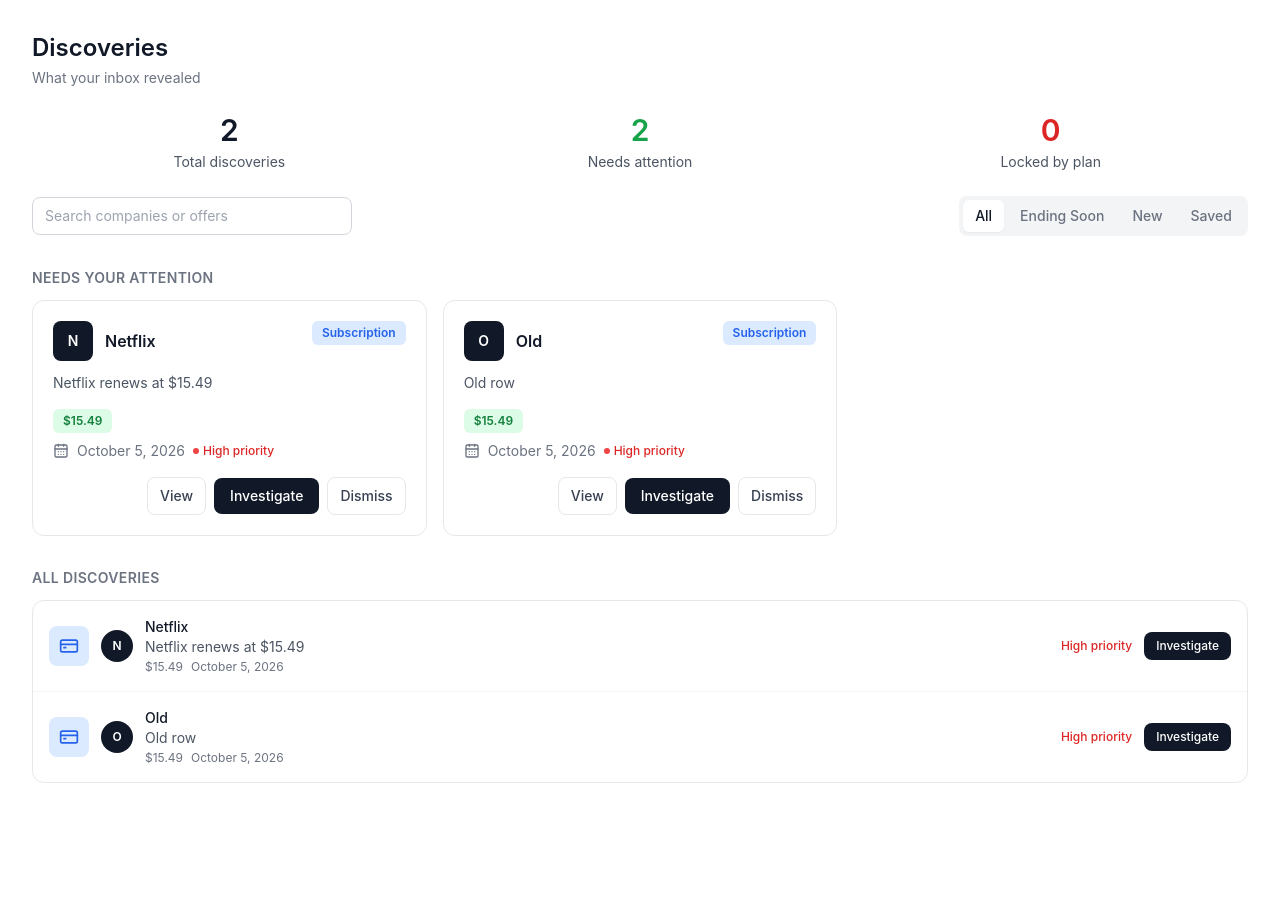
Scenario: DiscoveriesPage › filters rows with the New tab by createdAt recency
expect the element with test id "discoveries-list" is shown: met, box [32,600,1248,783]
Click the tab with test id "filter-tab-new" at (1148, 216), box [1120,200,1175,232]
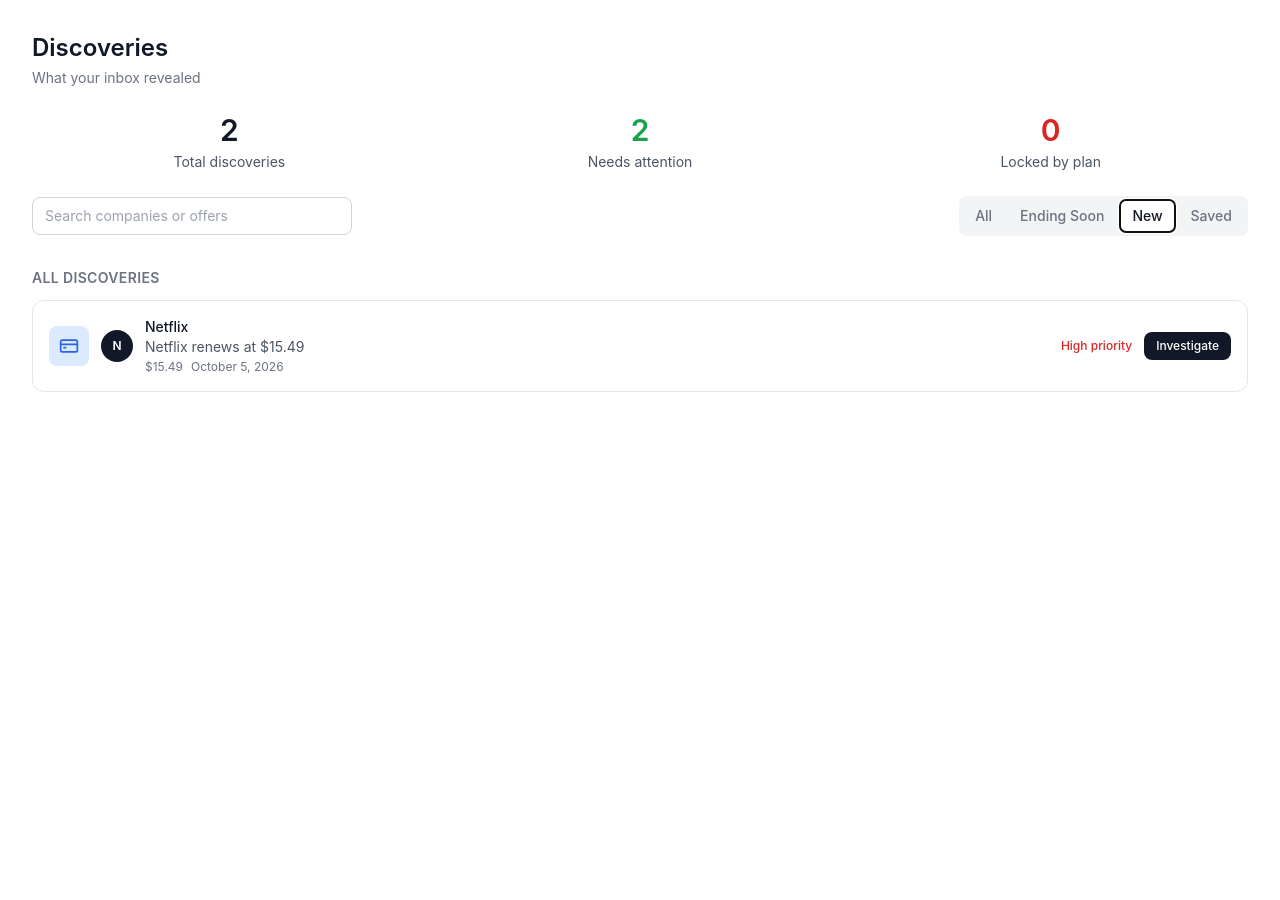
expect the number of buttons with test id "discovery-list-item" is 1: met, box [33,301,1247,391]
